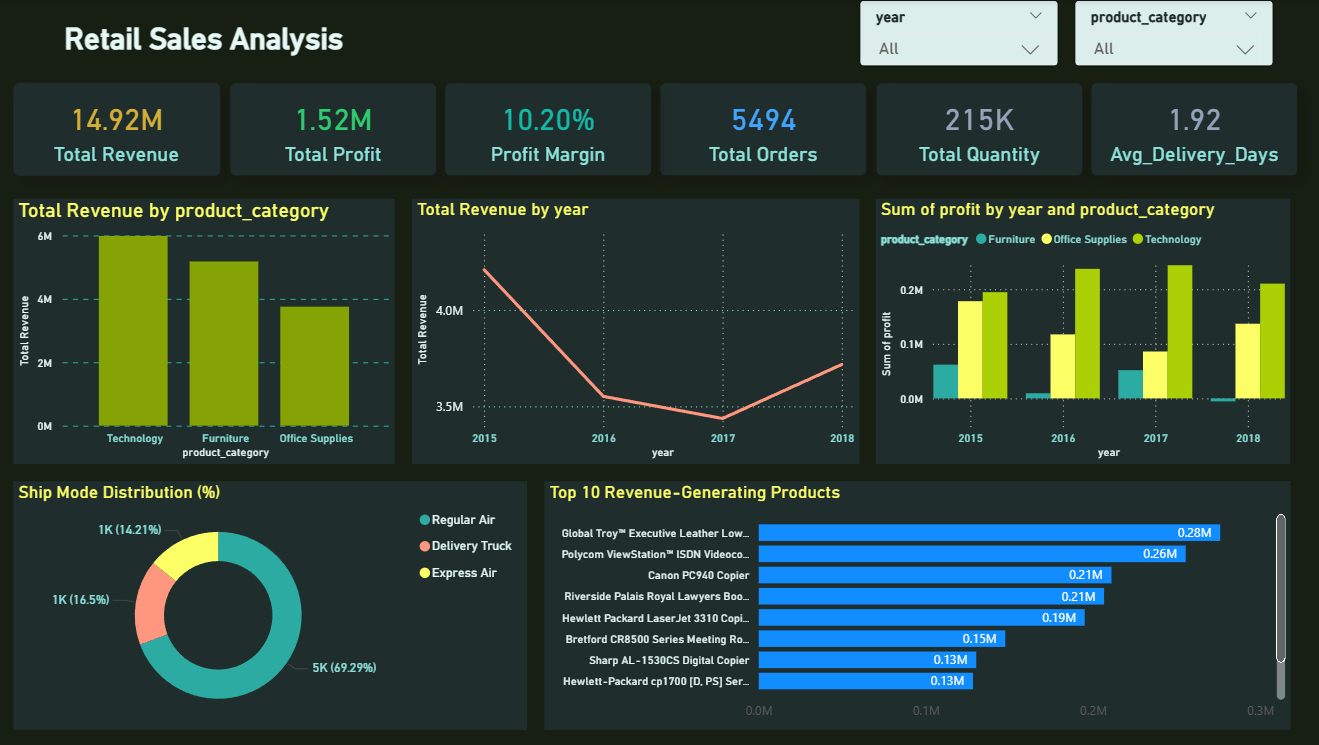

The page's visual inventory and layout, read from the dashboard file:
{"tool":"powerbi","page":{"name":"Page 1","canvas":[1280,720],"ordinal":0},"visuals":[{"type":"textbox","box":[16,16,368,48],"z":0},{"type":"card","fields":{"Values":["retail_sales_data.Total Revenue"]},"box":[16,80,200,90],"z":1000},{"type":"card","fields":{"Values":["retail_sales_data.Total Profit"]},"box":[224,80,200,90],"z":2000},{"type":"card","fields":{"Values":["retail_sales_data.Total Orders"]},"box":[640,80,200,90],"z":3000},{"type":"card","fields":{"Values":["retail_sales_data.Total Quantity"]},"box":[848,80,200,90],"z":4000},{"type":"card","fields":{"Values":["retail_sales_data.Profit Margin"]},"box":[432,80,200,90],"z":5000},{"type":"slicer","fields":{"Values":["retail_sales_data.year"]},"box":[832,0,192,64],"z":6000},{"type":"columnChart","fields":{"Category":["retail_sales_data.product_category"],"Y":["retail_sales_data.Total Revenue"]},"box":[16,192,368,256],"z":8000},{"type":"card","fields":{"Values":["retail_sales_data.average_delivery_days"]},"box":[1056,80,200,90],"z":9000},{"type":"clusteredColumnChart","fields":{"Category":["retail_sales_data.year"],"Series":["retail_sales_data.product_category"],"Y":["Sum(retail_sales_data.profit)"]},"box":[848,192,400,256],"z":10000},{"type":"lineChart","fields":{"Category":["retail_sales_data.year"],"Y":["retail_sales_data.Total Revenue"]},"box":[400,192,432,256],"z":10001},{"type":"donutChart","title":"Ship Mode Distribution (%) ","fields":{"Category":["retail_sales_data.ship_mode"],"Y":["retail_sales_data.Total Orders"]},"box":[16,464,496,240],"z":10002},{"type":"clusteredBarChart","title":"Top 10 Revenue-Generating Products","fields":{"Category":["retail_sales_data.product_name"],"Y":["retail_sales_data.Total Revenue"]},"box":[528,464,720,240],"z":10003},{"type":"slicer","fields":{"Values":["retail_sales_data.product_category"]},"box":[1040,0,192,64],"z":10004}]}

Visuals, with their boxes in screenshot pixels (x1, y1, x2, y2), scaled from the page's 1280x720 canvas onto the 1319x745 screenshot:
textbox: box(16, 17, 396, 66)
card - retail_sales_data.Total Revenue: box(16, 83, 223, 176)
card - retail_sales_data.Total Profit: box(231, 83, 437, 176)
card - retail_sales_data.Total Orders: box(660, 83, 866, 176)
card - retail_sales_data.Total Quantity: box(874, 83, 1080, 176)
card - retail_sales_data.Profit Margin: box(445, 83, 651, 176)
slicer - retail_sales_data.year: box(857, 0, 1055, 66)
columnChart - retail_sales_data.product_category x retail_sales_data.Total Revenue: box(16, 199, 396, 464)
card - retail_sales_data.average_delivery_days: box(1088, 83, 1294, 176)
clusteredColumnChart - retail_sales_data.year x retail_sales_data.product_category: box(874, 199, 1286, 464)
lineChart - retail_sales_data.year x retail_sales_data.Total Revenue: box(412, 199, 857, 464)
"Ship Mode Distribution (%) " donutChart: box(16, 480, 528, 728)
"Top 10 Revenue-Generating Products" clusteredBarChart: box(544, 480, 1286, 728)
slicer - retail_sales_data.product_category: box(1072, 0, 1270, 66)
